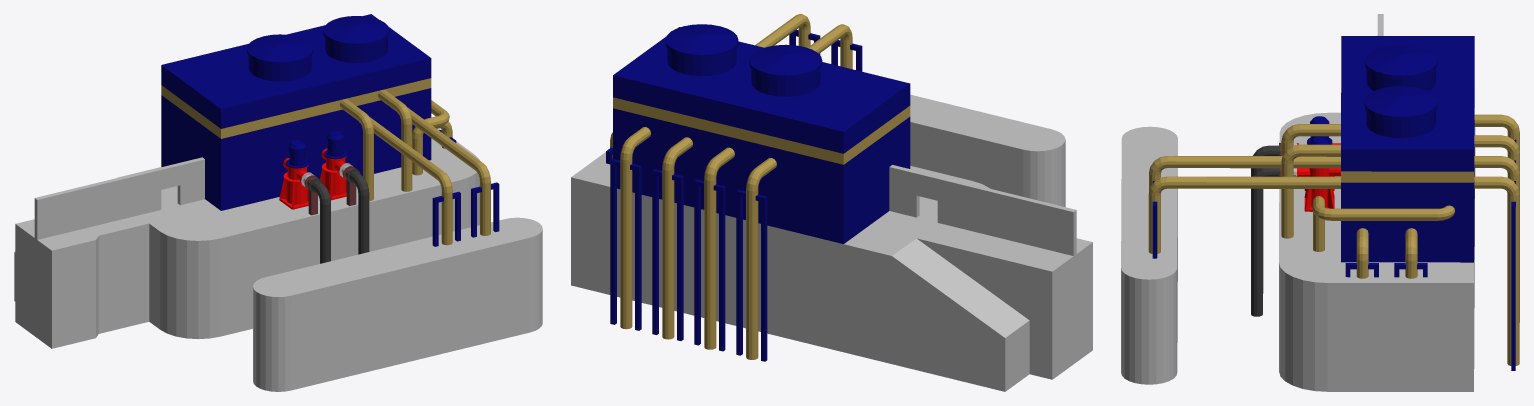
File: LightStoneBuildingLargeTreatment1.fbx
The picture shows the model from 3 angles, left to right: view 1: azimuth 30°, elevation 25°; view 2: azimuth 150°, elevation 25°; view 3: azimuth 270°, elevation 25°; orthographic projection. The views are drawn at different scales.
Visible parts, largest first — view 1: LightStoneBuildingLargeWaterTreatmentBuilding1; view 2: LightStoneBuildingLargeWaterTreatmentBuilding1; view 3: LightStoneBuildingLargeWaterTreatmentBuilding1.
Part boxes in pixels (x1=…): LightStoneBuildingLargeWaterTreatmentBuilding1: x1=14, y1=14, x2=542, y2=391; LightStoneBuildingLargeWaterTreatmentBuilding1: x1=571, y1=14, x2=1092, y2=391; LightStoneBuildingLargeWaterTreatmentBuilding1: x1=1121, y1=14, x2=1519, y2=391.
Size of the model in its own units: 4360 by 2334 by 3268.
